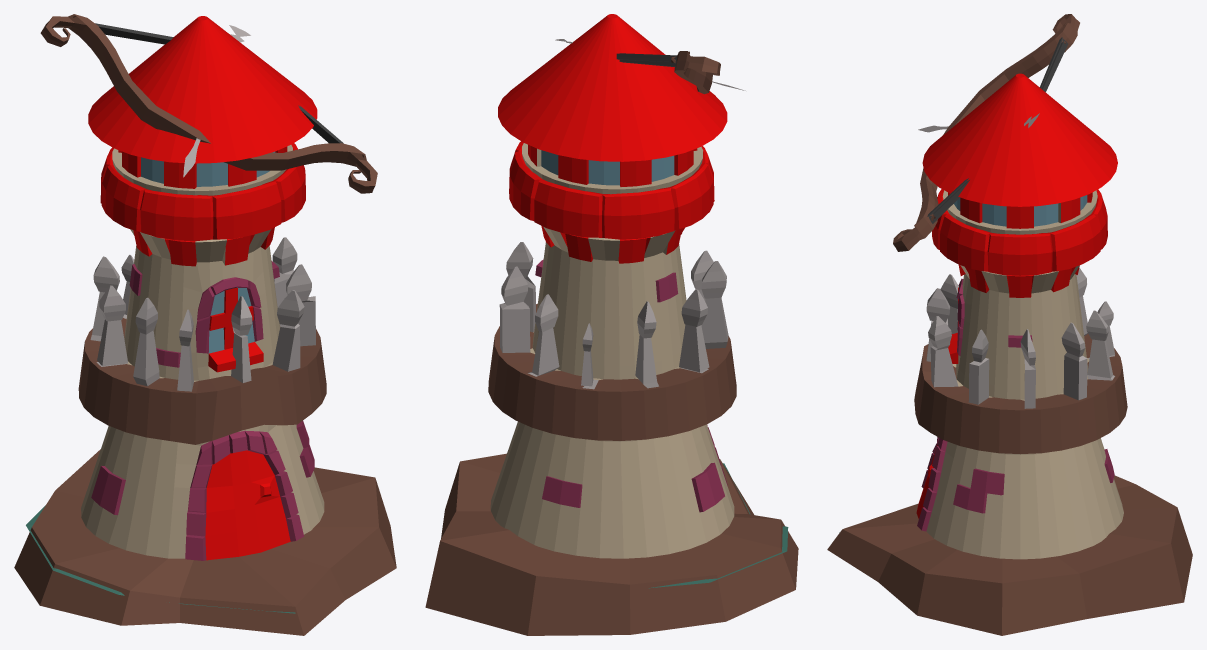
Rendered from ok_kule_ates.fbx.
3 renders of one model, left to right at view 1: azimuth 30°, elevation 25°; view 2: azimuth 150°, elevation 25°; view 3: azimuth 270°, elevation 25°, orthographic. The views are drawn at different scales.
Visible parts, largest first — view 1: Cylinder.024, Circle.023, Plane.016, cımen.028; view 2: Cylinder.024, Circle.023, Plane.016; view 3: Cylinder.024, Circle.023, Plane.016.
Boxes of the visible parts, x1=… form: Cylinder.024: x1=78, y1=16, x2=326, y2=560; Circle.023: x1=14, y1=449, x2=396, y2=635; Plane.016: x1=40, y1=14, x2=377, y2=193; cımen.028: x1=26, y1=505, x2=295, y2=613; Cylinder.024: x1=488, y1=14, x2=736, y2=558; Circle.023: x1=425, y1=453, x2=798, y2=635; Plane.016: x1=616, y1=51, x2=720, y2=94; Cylinder.024: x1=914, y1=73, x2=1127, y2=559; Circle.023: x1=827, y1=475, x2=1192, y2=635; Plane.016: x1=893, y1=14, x2=1079, y2=251.
Size of the model in its own units: 488 by 740 by 496.
